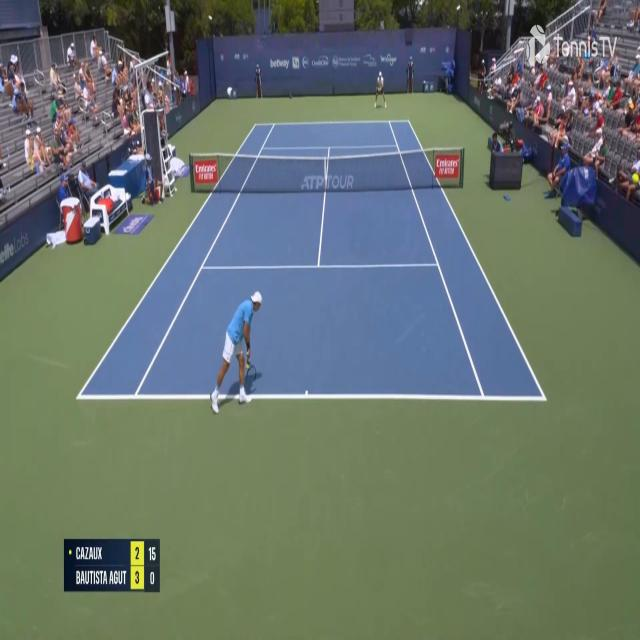tennis-player: (207, 286, 264, 420), (374, 70, 386, 109)
